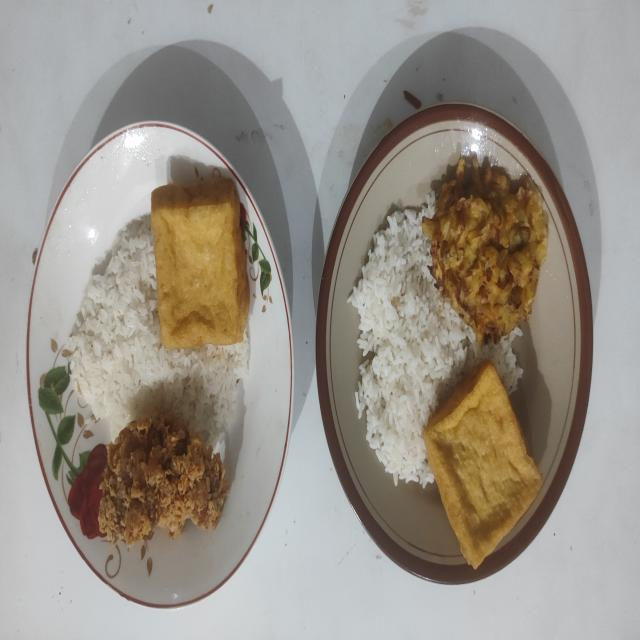nasi_putih: (348, 194, 523, 488), (66, 213, 250, 448)
tahu_goreng: (424, 362, 542, 568), (152, 178, 250, 348)
